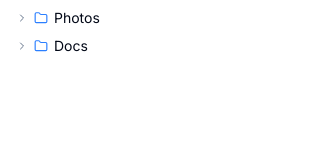
Test case: <FileTree> › reload-token-bump laedt expandierte pfade neu
This screenshot has width=320, height=160.
Click the button named "Photos erweitern". click: (22, 18)
box: left=14, top=10, right=30, bottom=26
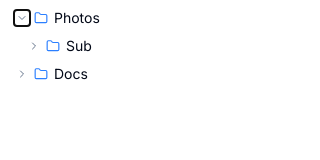
Now the text "Sub" is shown, box left=66, top=36, right=92, bottom=56
